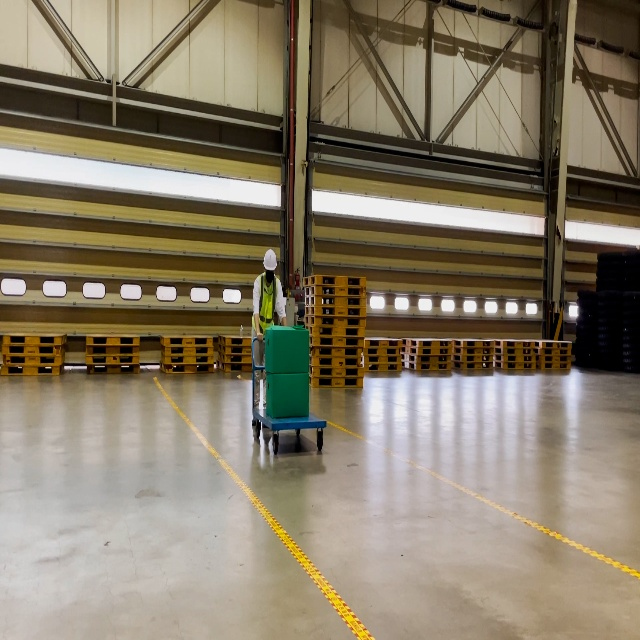Box: (265, 325, 309, 373), (266, 374, 309, 418)
Worker: (252, 248, 287, 428)
